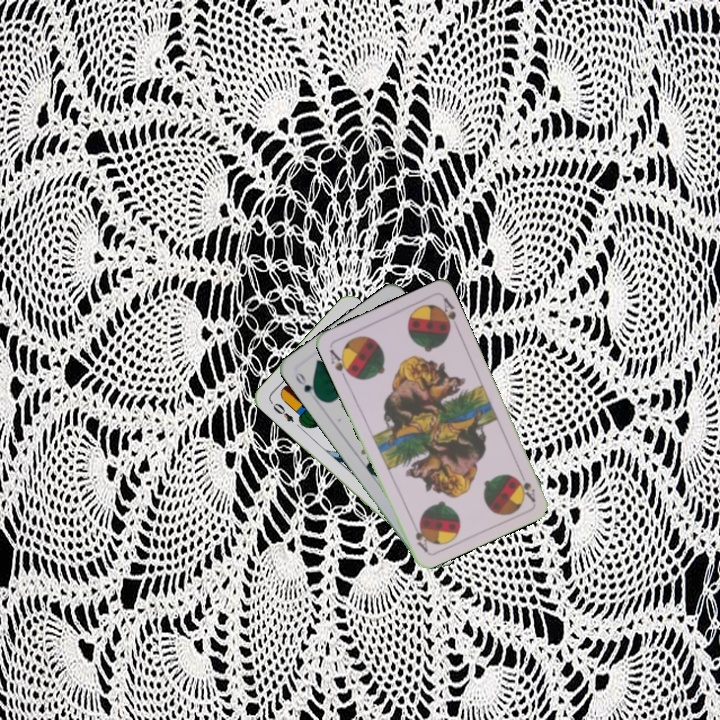EO: (266, 397, 297, 425)
GO: (291, 368, 322, 402)
SA: (325, 345, 355, 383), (512, 466, 538, 505)
